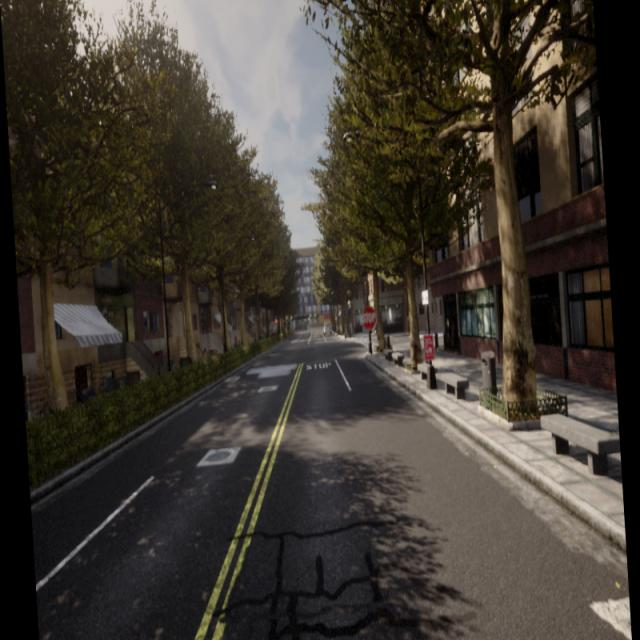stop sign: (360, 303, 378, 332)
